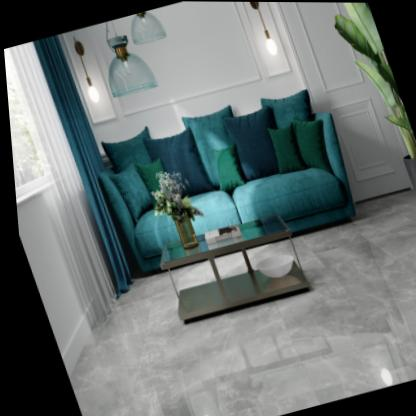Ceramic floor: (62, 189, 416, 416)
Curtains: (7, 35, 136, 320), (32, 34, 135, 295)
Sofa: (77, 72, 381, 282)
